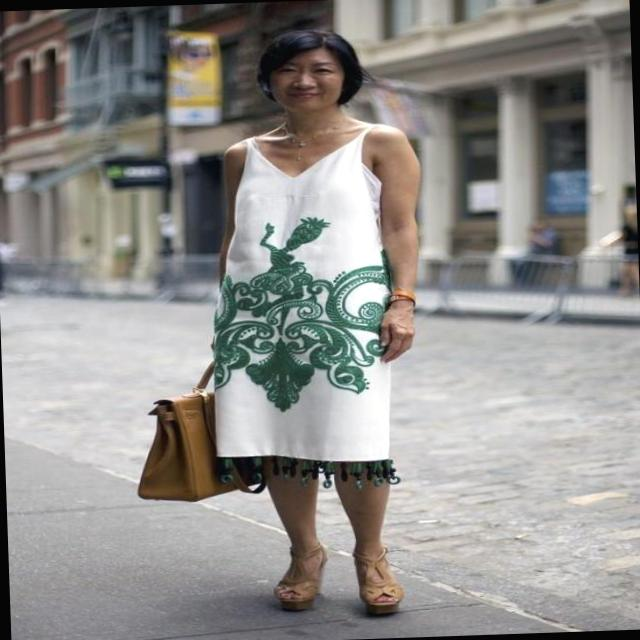dress: (198, 120, 396, 492)
